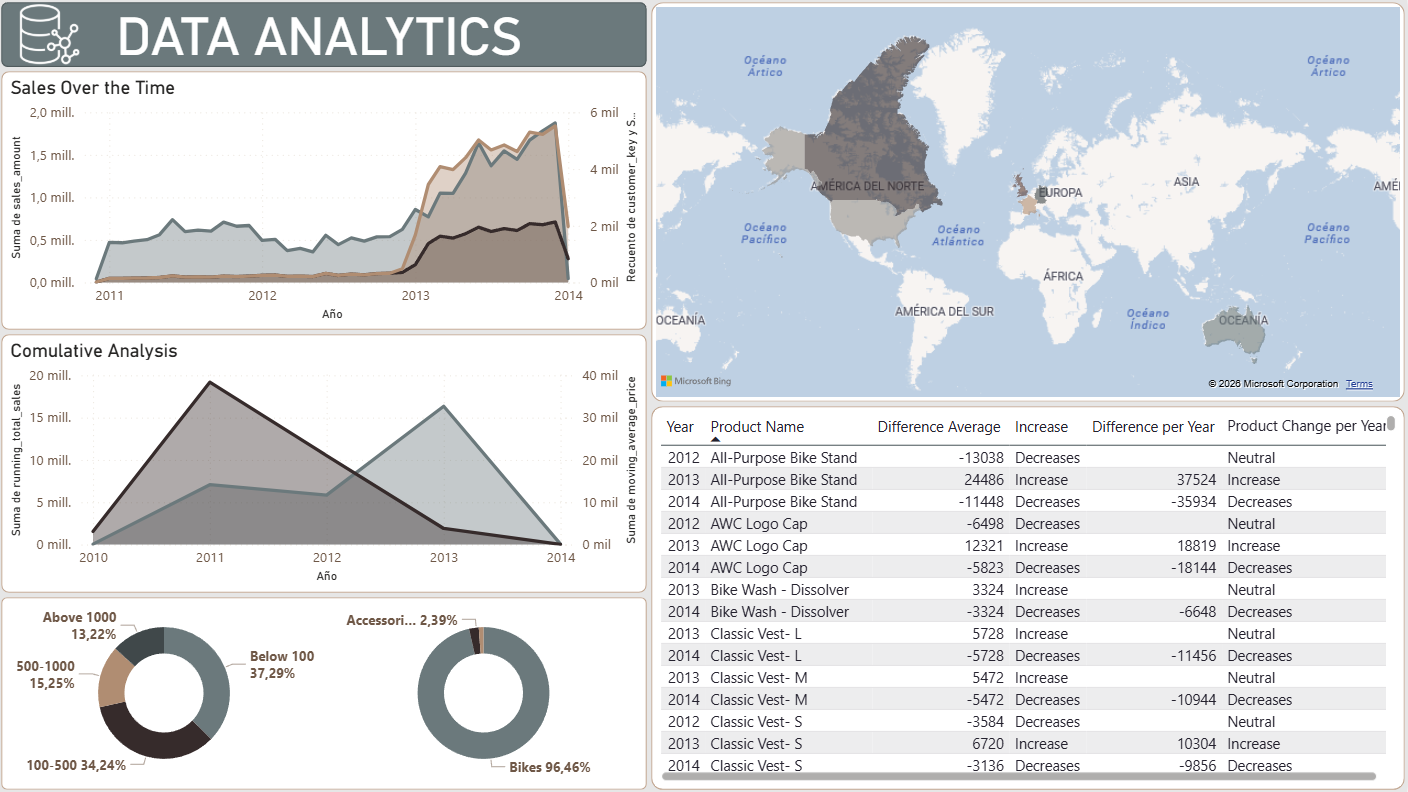

The page's visual inventory and layout, read from the dashboard file:
{"tool":"powerbi","page":{"name":"DashBoard","canvas":[1280,720],"ordinal":0},"visuals":[{"type":"shape","box":[0,0,590.7,62.9],"z":0},{"type":"shape","box":[0,62.5,590.8,239.2],"z":1000},{"type":"areaChart","title":"Sales Over the Time","fields":{"Category":["gold fact_sales.order_date.Variación.Jerarquía de fechas.Año","gold fact_sales.order_date.Variación.Jerarquía de fechas.Mes"],"Y":["Sum(gold fact_sales.sales_amount)"],"Y2":["Count(gold fact_sales.customer_key)","Sum(gold fact_sales.quantity)"]},"box":[5.8,69.2,580,226.7],"z":2000},{"type":"shape","box":[0,301.7,590.8,239.2],"z":3000},{"type":"areaChart","title":"Comulative Analysis","fields":{"Category":["gold cumulative_analisys.order_date.Variación.Jerarquía de fechas.Año","gold cumulative_analisys.order_date.Variación.Jerarquía de fechas.Mes"],"Y":["Sum(gold cumulative_analisys.running_total_sales)"],"Y2":["Sum(gold cumulative_analisys.moving_average_price)"]},"box":[5.8,308.3,580,225.8],"z":4000},{"type":"shape","box":[0,540.9,590.9,179.1],"z":5000},{"type":"donutChart","fields":{"Category":["gold part_to_analisys.category"],"Y":["Sum(gold fact_sales.sales_amount)"]},"box":[295.5,546.4,290,167.3],"z":6000},{"type":"donutChart","fields":{"Category":["gold data_segmentation.cost_range"],"Y":["Sum(gold data_segmentation.total_products)"]},"box":[4.5,546.4,290.9,167.3],"z":7000},{"type":"shape","box":[590.9,0,689.1,367.3],"z":8000},{"type":"filledMap","fields":{"Category":["gold dim_customers.country"],"Series":["gold dim_customers.country"]},"box":[590.9,0,689.1,367],"z":9000},{"type":"shape","box":[590.9,367.3,689.1,352.7],"z":10000},{"type":"tableEx","fields":{"Values":["gold perfomance_analisys.year_order","gold perfomance_analisys.product_name","Sum(gold perfomance_analisys.diff_avg)","gold perfomance_analisys.increase","Sum(gold perfomance_analisys.diif_py)","gold perfomance_analisys.py_change"]},"box":[590.9,367.3,689.1,352.7],"z":11000},{"type":"textbox","box":[101.4,4.3,435.7,60.7],"z":13001},{"type":"image","box":[15.4,3.8,59.2,55],"z":13002}]}

Visuals, with their boxes in screenshot pixels (x1, y1, x2, y2), scaled from the page's 1280x720 canvas onto the 1408x792 screenshot:
shape: box(0, 0, 650, 69)
shape: box(0, 69, 650, 332)
"Sales Over the Time" areaChart: box(6, 76, 644, 325)
shape: box(0, 332, 650, 595)
"Comulative Analysis" areaChart: box(6, 339, 644, 588)
shape: box(0, 595, 650, 791)
donutChart - gold part_to_analisys.category x Sum(gold fact_sales.sales_amount): box(325, 601, 644, 785)
donutChart - gold data_segmentation.cost_range x Sum(gold data_segmentation.total_products): box(5, 601, 325, 785)
shape: box(650, 0, 1407, 404)
filledMap - gold dim_customers.country x gold dim_customers.country: box(650, 0, 1407, 404)
shape: box(650, 404, 1407, 791)
tableEx - gold perfomance_analisys.year_order x gold perfomance_analisys.product_name: box(650, 404, 1407, 791)
textbox: box(112, 5, 591, 72)
image: box(17, 4, 82, 65)
